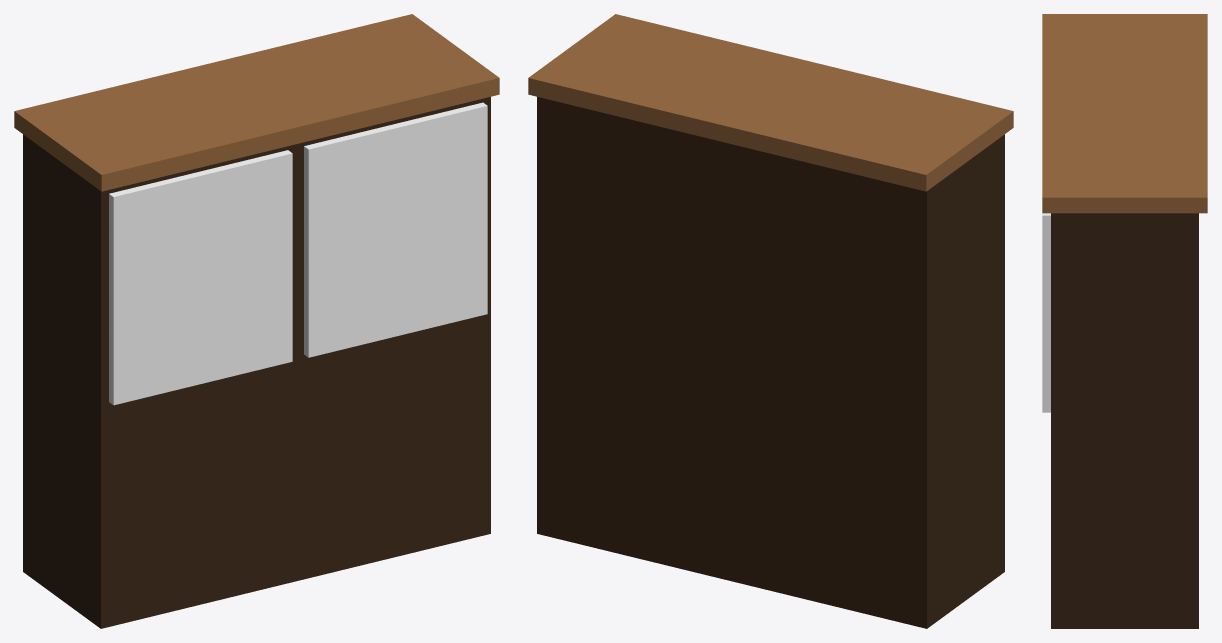
Rendered from entrycabinet-lite.glb.
The picture shows the model from 3 angles, left to right: view 1: azimuth 30°, elevation 25°; view 2: azimuth 150°, elevation 25°; view 3: azimuth 270°, elevation 25°; orthographic projection. The views are drawn at different scales.
Parts seen in each view (by area): view 1: material-0-body, material-1-door, material-2-top; view 2: material-0-body, material-2-top; view 3: material-0-body, material-2-top, material-1-door.
Part boxes in pixels (bbox=[...]): material-0-body: bbox=[23, 97, 490, 628]; material-1-door: bbox=[109, 102, 487, 405]; material-2-top: bbox=[14, 14, 499, 191]; material-0-body: bbox=[537, 97, 1004, 628]; material-2-top: bbox=[528, 14, 1013, 191]; material-0-body: bbox=[1051, 213, 1198, 628]; material-2-top: bbox=[1042, 14, 1207, 213]; material-1-door: bbox=[1042, 213, 1050, 412].
Size of the model in its own units: 1 by 1.1 by 0.38.
